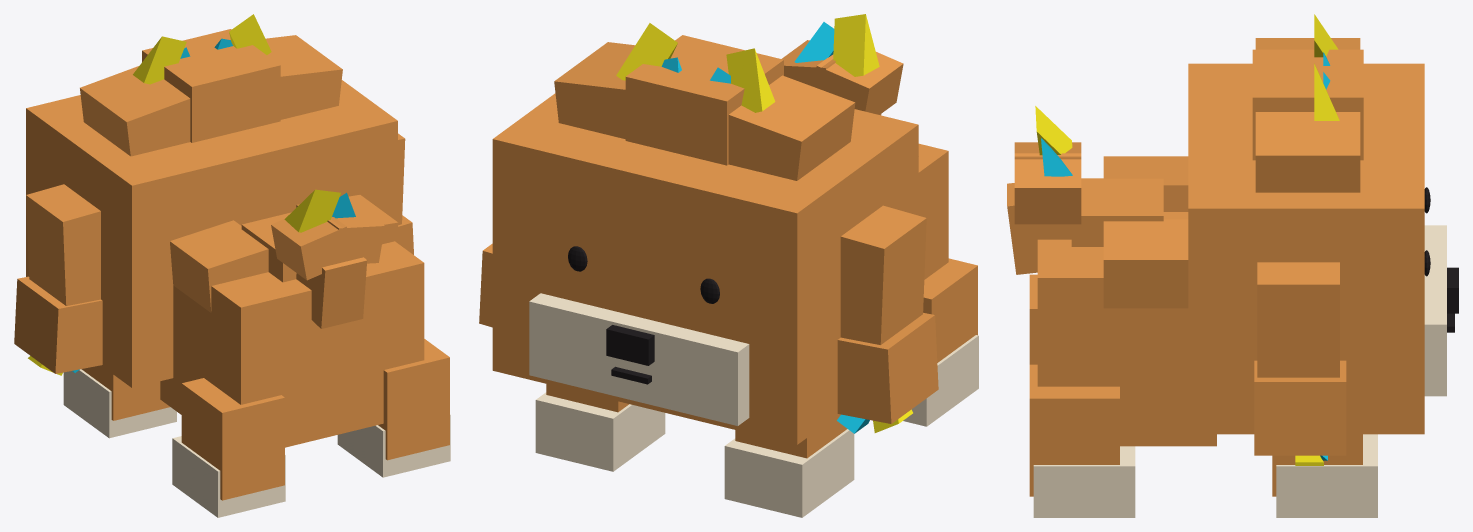
The model's file is Poodle_Block.obj.
3 renders of one model, left to right at view 1: azimuth 30°, elevation 25°; view 2: azimuth 150°, elevation 25°; view 3: azimuth 270°, elevation 25°, orthographic. The views are drawn at different scales.
Visible parts, largest first — view 1: BigHead, ShortTorso, LegBL_Leg, HeadTuftC, ClippedEarL, HeadTuftL, LegBR_Leg, EarTuftL, BodyTuftL, HeadTuftR, LegBL_Paw, TailTuftL (+11 smaller); view 2: BigHead, CreamMuzzle, HeadTuftC, ClippedEarL, HeadTuftL, EarTuftL, LegFL_Paw, LegFR_Paw, HeadTuftR, LegBL_Leg, ShortTorso, TailTuftL (+10 smaller); view 3: BigHead, ShortTorso, ClippedEarR, HeadTuftR, BodyTuftR, LegBR_Leg, EarTuftR, HeadTuftC, LegFR_Paw, LegBR_Paw, BodyTuftC, TailTuftR (+12 smaller).
Boxes of the visible parts, x1,y1,x2,y2 form: BigHead: [26, 80, 397, 387]; ShortTorso: [160, 241, 424, 447]; LegBL_Leg: [181, 378, 284, 500]; HeadTuftC: [142, 29, 280, 142]; ClippedEarL: [26, 184, 100, 305]; HeadTuftL: [80, 66, 190, 156]; LegBR_Leg: [378, 339, 449, 460]; EarTuftL: [14, 276, 102, 373]; BodyTuftL: [170, 220, 268, 312]; HeadTuftR: [266, 35, 342, 119]; LegBL_Paw: [172, 436, 285, 517]; TailTuftL: [271, 216, 352, 280]; BigHead: [492, 93, 918, 444]; CreamMuzzle: [529, 293, 749, 425]; HeadTuftC: [625, 35, 783, 165]; ClippedEarL: [840, 205, 926, 344]; HeadTuftL: [728, 75, 855, 180]; EarTuftL: [837, 312, 938, 423]; LegFL_Paw: [724, 429, 854, 517]; LegFR_Paw: [535, 392, 665, 471]; HeadTuftR: [554, 42, 634, 139]; LegBL_Leg: [923, 258, 977, 362]; ShortTorso: [918, 143, 948, 279]; TailTuftL: [813, 52, 903, 114]; BigHead: [1188, 63, 1424, 434]; ShortTorso: [1037, 178, 1216, 446]; ClippedEarR: [1257, 262, 1339, 377]; HeadTuftR: [1255, 112, 1360, 192]; BodyTuftR: [1103, 219, 1188, 308]; LegBR_Leg: [1029, 364, 1119, 496]; EarTuftR: [1254, 360, 1346, 455]; HeadTuftC: [1252, 49, 1363, 160]; LegFR_Paw: [1276, 434, 1377, 517]; LegBR_Paw: [1033, 446, 1135, 517]; BodyTuftC: [1071, 178, 1163, 246]; TailTuftR: [1014, 153, 1081, 224].
Bounding box in the file's own units: 2.92 × 2.89 × 2.85.
